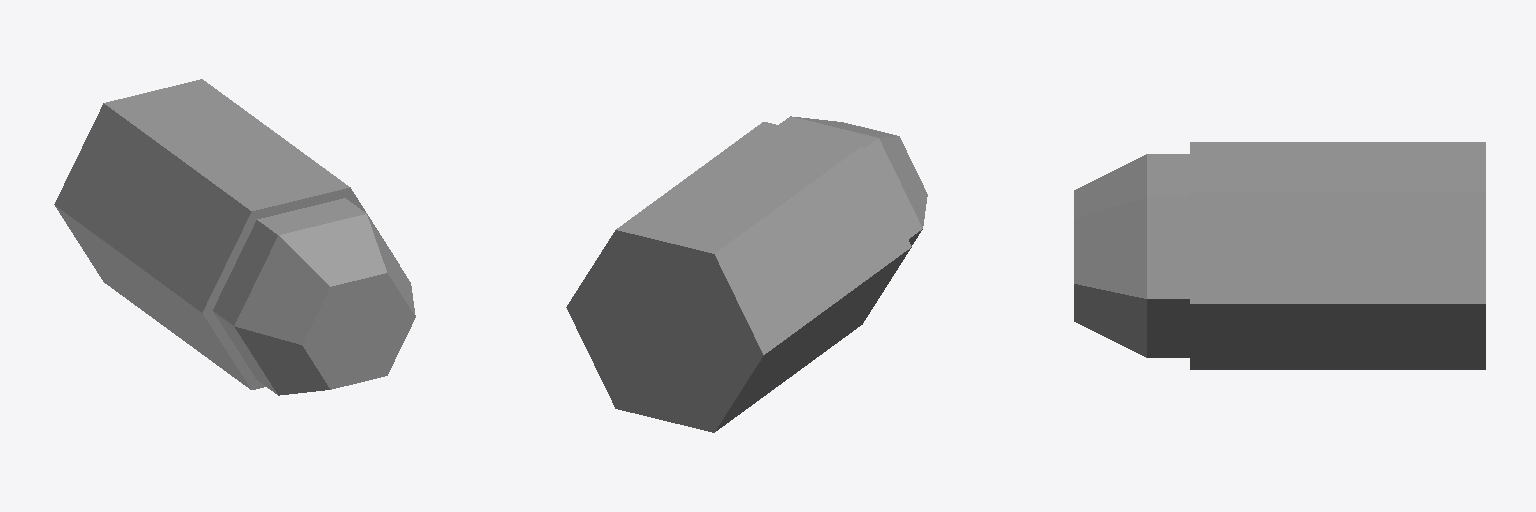
The model's file is Bullet2.obj.
3 views of the same model, side by side, from view 1: azimuth 30°, elevation 25°; view 2: azimuth 150°, elevation 25°; view 3: azimuth 270°, elevation 25° (orthographic).
Parts seen in each view (by area): view 1: Bullet_Bullet_UV; view 2: Bullet_Bullet_UV; view 3: Bullet_Bullet_UV.
Part boxes in pixels (x1,y1,x2,y2): Bullet_Bullet_UV: (54, 79, 415, 395); Bullet_Bullet_UV: (566, 116, 927, 432); Bullet_Bullet_UV: (1074, 142, 1485, 369).
Size of the model in its own units: 0.4 by 0.3464 by 0.7228.